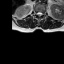CCS_normal: (38, 10, 40, 19)
LFS_normal: (42, 10, 44, 16)
LLS_normal: (40, 10, 42, 17)
RFS_normal: (35, 9, 36, 17)
RLS_normal: (36, 9, 38, 17)
